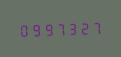nine: (41, 20, 52, 37), (29, 21, 40, 37)
seven: (89, 18, 100, 35), (53, 20, 64, 36)
three: (65, 19, 76, 36)
two: (77, 19, 88, 36)
zero: (17, 21, 28, 38)
